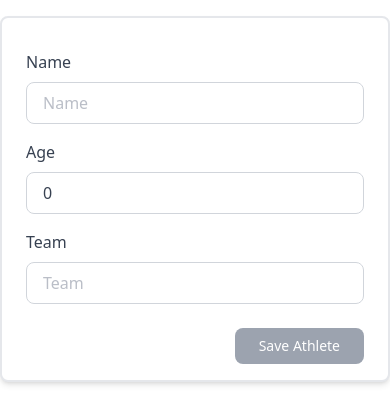
AthleteForm › resets form after submission if resetOnPerform is true
Type "John Doe" into the field labelled "Name" at (195, 103), box [26,82,364,124]
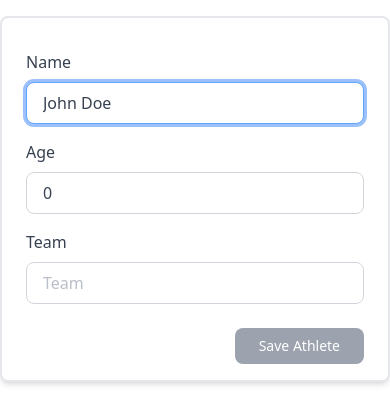
Type "25" into the number field labelled "Age" at (195, 193), box [26,172,364,214]
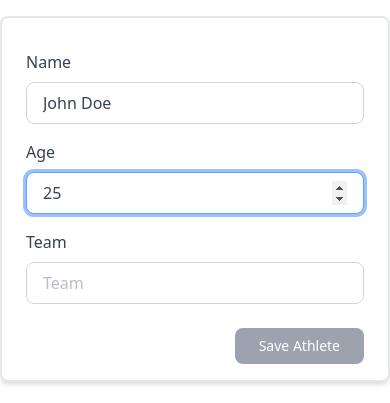
Type "Team A" into the field labelled "Team" at (195, 283), box [26,262,364,304]
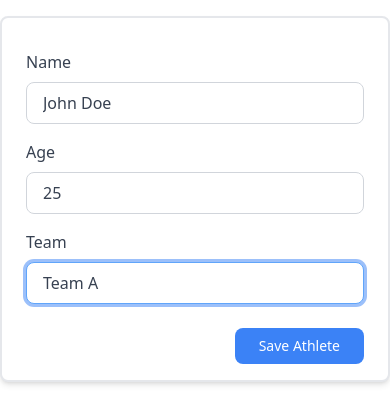
Click the button "Save Athlete" at (299, 346), box [235,328,364,364]
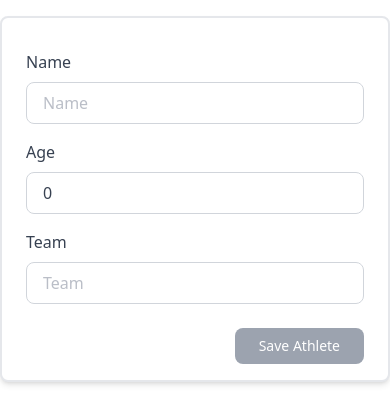
Expected: the field labelled "Name" is empty, [26,82,364,124]
Expected: the number field labelled "Age" holds "0", [26,172,364,214]
Expected: the field labelled "Team" is empty, [26,262,364,304]
